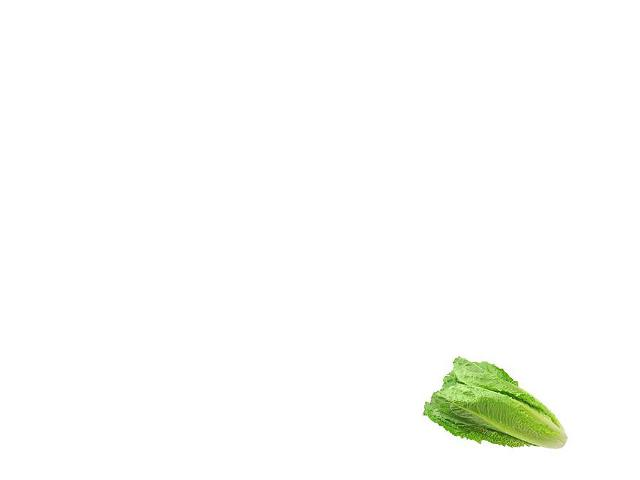lettuce: (400, 348, 554, 478)
